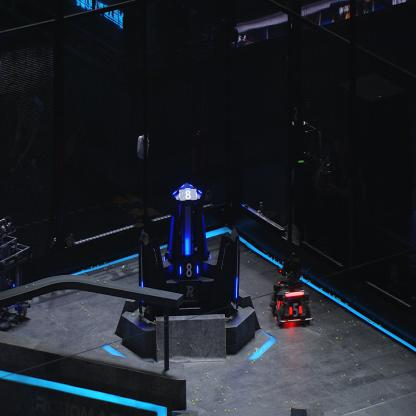car: (0, 214, 30, 329), (268, 254, 314, 328)
